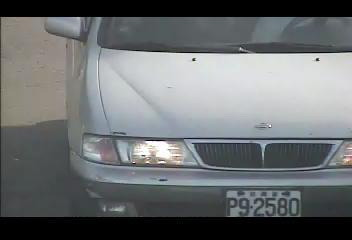plate: (224, 188, 302, 219)
